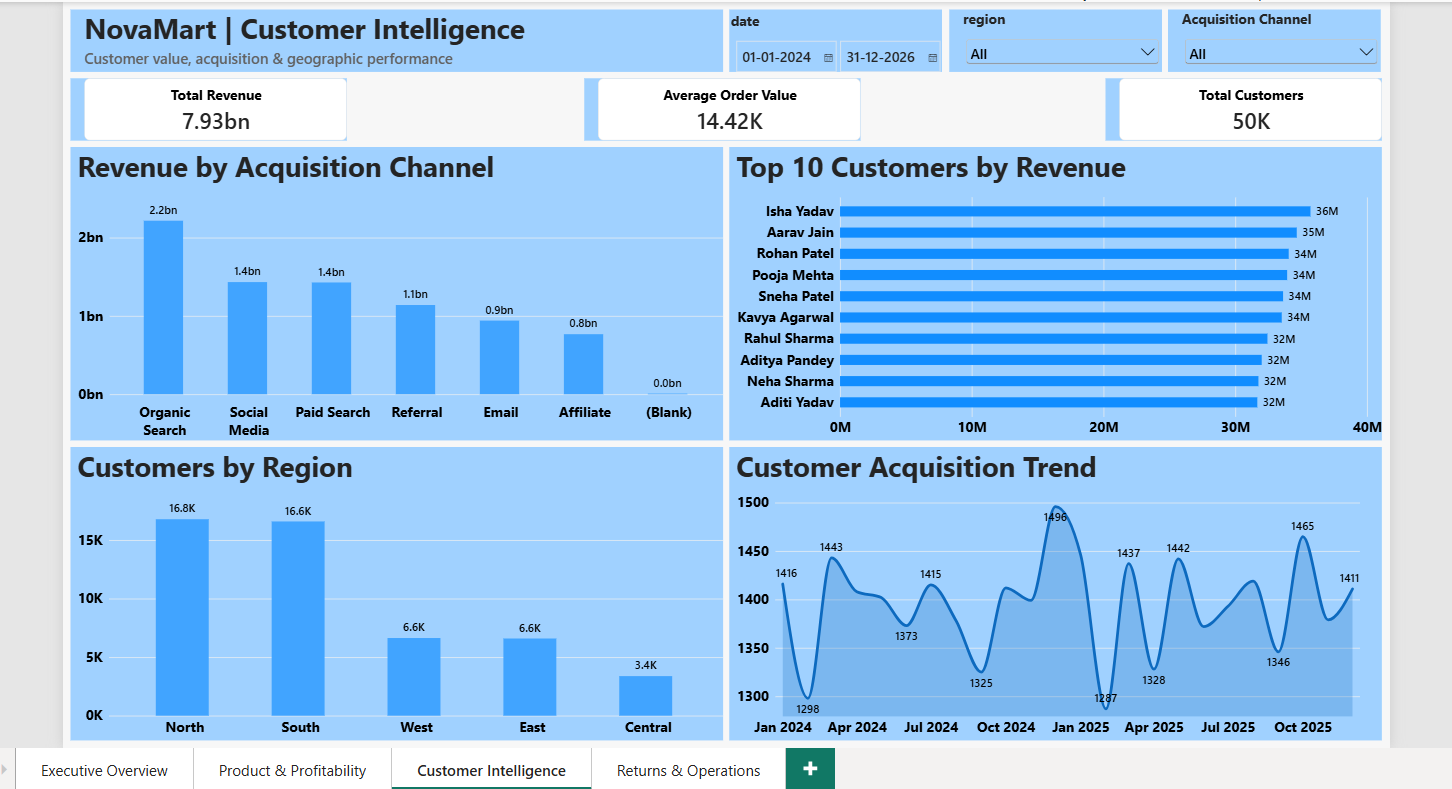

Layout of this report page (visuals, bound fields, positions):
{"tool":"powerbi","page":{"name":"Customer Intelligence","canvas":[1920,1080],"ordinal":2},"visuals":[{"type":"textbox","title":"NovaMart | Customer Intelligence","box":[10.9,10.9,945,90],"z":0},{"type":"slicer","title":"date","fields":{"Values":["dim_date.date"]},"box":[964.5,10.9,308,90],"z":1000},{"type":"slicer","title":"region","fields":{"Values":["customers_clean.region"]},"box":[1283,10,308,90],"z":2000},{"type":"slicer","title":"Acquisition Channel","fields":{"Values":["customers_clean.acquisition_channel"]},"box":[1600,10,308,90],"z":3000},{"type":"cardVisual","fields":{"Data":["Sales_measures.Total Revenue"]},"box":[10.9,110.4,400,90],"z":4000},{"type":"cardVisual","fields":{"Data":["Customer_measures.Total Customers"]},"box":[1509.3,110.4,400,90],"z":5000},{"type":"cardVisual","fields":{"Data":["Sales_measures.Average Order Value"]},"box":[754.6,110.4,400,90],"z":6000},{"type":"columnChart","title":"Revenue by Acquisition Channel","fields":{"Category":["customers_clean.acquisition_channel"],"Y":["Sales_measures.Total Revenue"]},"box":[10.9,210,945,425],"z":7000},{"type":"barChart","title":"Top 10 Customers by Revenue","fields":{"Category":["customers_clean.customer_name"],"Y":["Sales_measures.Total Revenue"]},"box":[964.5,210,945,425],"z":8000},{"type":"columnChart","title":"Customers by Region","fields":{"Category":["customers_clean.region"],"Y":["Customer_measures.Total Customers"]},"box":[10.9,645,945,425],"z":9000},{"type":"lineChart","title":"Customer Acquisition Trend","fields":{"Category":["customers_clean.signup_date.Variation.Date Hierarchy.Year","customers_clean.signup_date.Variation.Date Hierarchy.Month"],"Y":["Customer_measures.Customer Acquired"]},"box":[965,645,945,425],"z":10000}]}

Visuals, with their boxes on the page's 1920x1080 design canvas (x1, y1, x2, y2). These are canvas units, not pixel positions in the 1452x789 screenshot, which may show the page scaled, cropped or inside an application window:
"NovaMart | Customer Intelligence" textbox: l=11, t=11, r=956, b=101
"date" slicer: l=964, t=11, r=1272, b=101
"region" slicer: l=1283, t=10, r=1591, b=100
"Acquisition Channel" slicer: l=1600, t=10, r=1908, b=100
cardVisual - Sales_measures.Total Revenue: l=11, t=110, r=411, b=200
cardVisual - Customer_measures.Total Customers: l=1509, t=110, r=1909, b=200
cardVisual - Sales_measures.Average Order Value: l=755, t=110, r=1155, b=200
"Revenue by Acquisition Channel" columnChart: l=11, t=210, r=956, b=635
"Top 10 Customers by Revenue" barChart: l=964, t=210, r=1910, b=635
"Customers by Region" columnChart: l=11, t=645, r=956, b=1070
"Customer Acquisition Trend" lineChart: l=965, t=645, r=1910, b=1070
